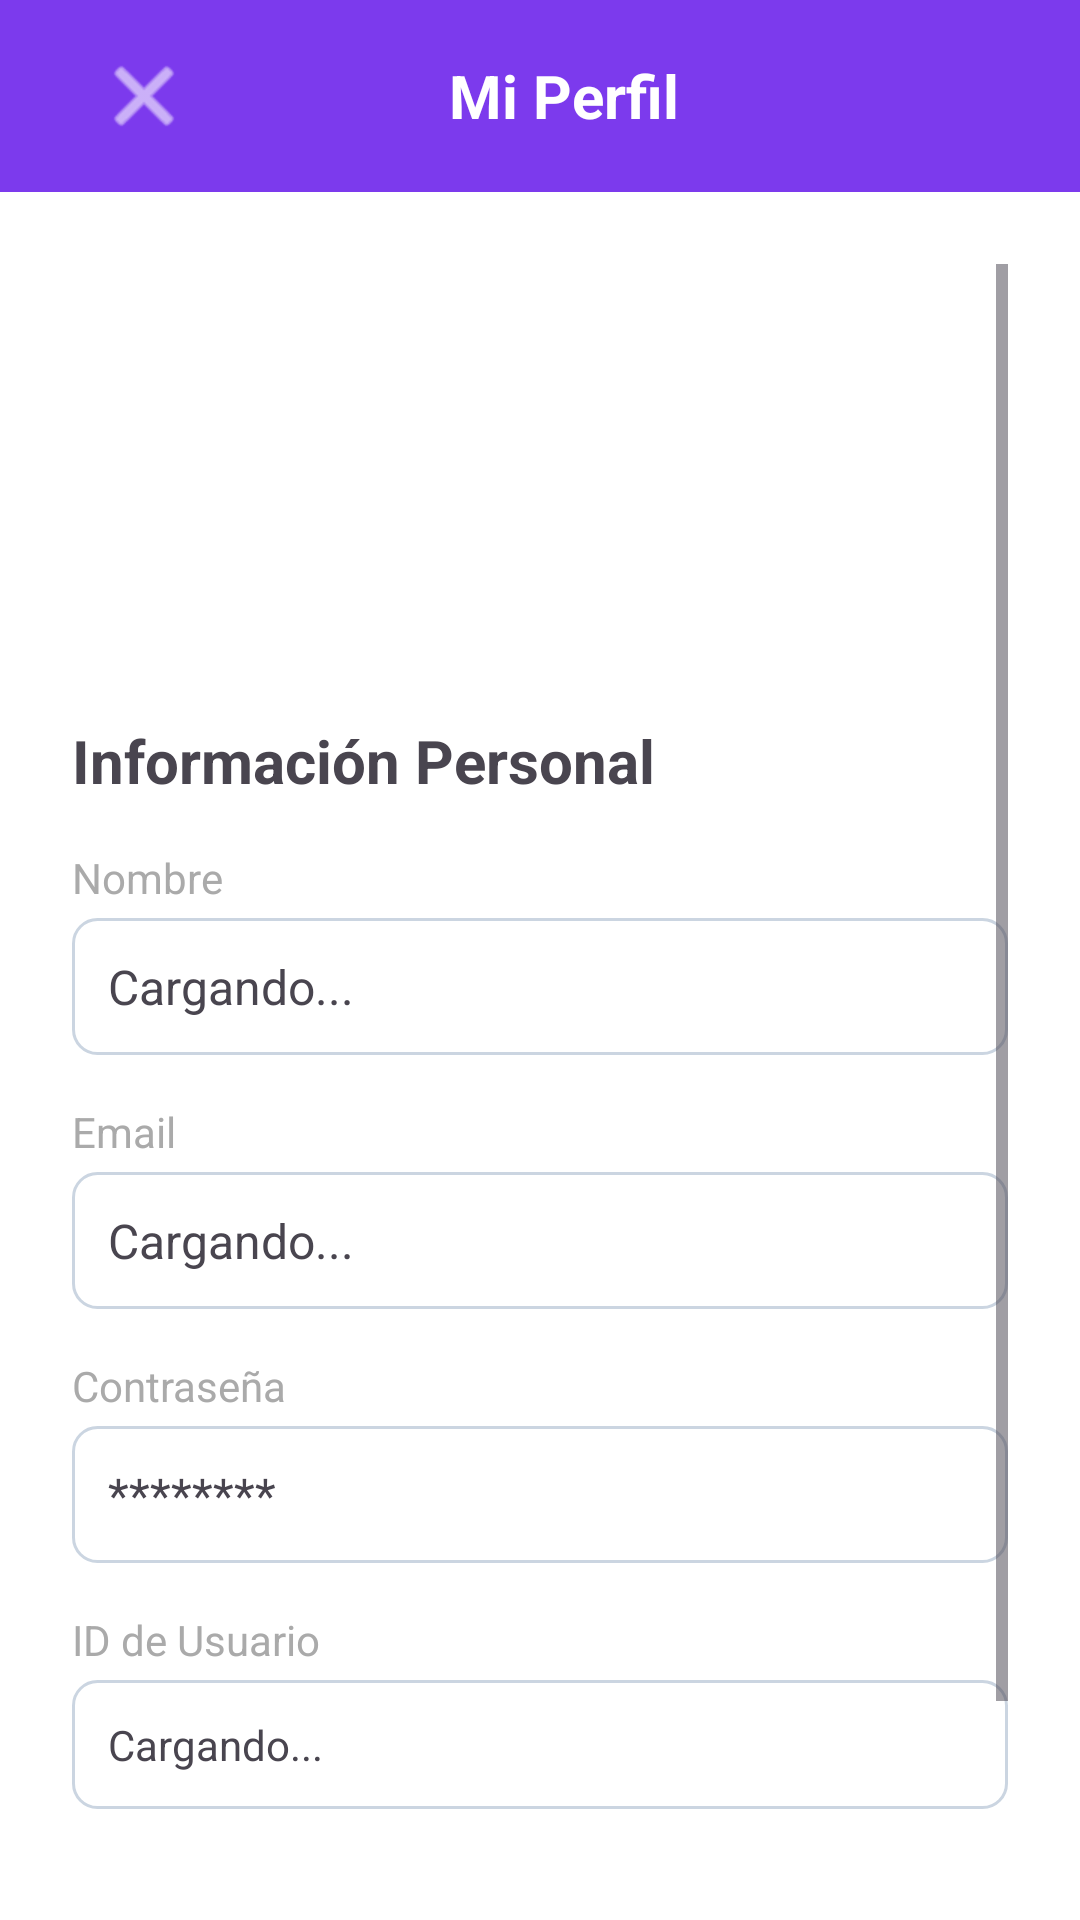

Screen size 1080px×1920px. Icon name, then its center in pixels as point (x, y):
Volver: point (144, 96)
